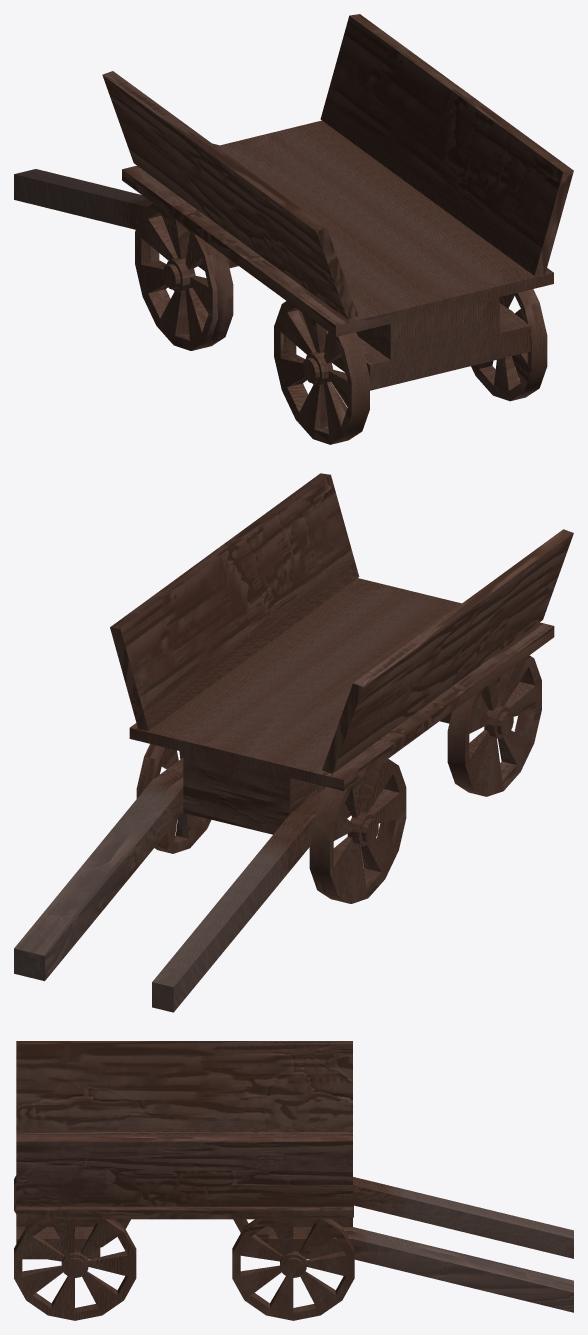
Rendered from cart.fbx.
3 renders of one model, top to bottom at view 1: azimuth 30°, elevation 25°; view 2: azimuth 150°, elevation 25°; view 3: azimuth 270°, elevation 25°, orthographic. The views are drawn at different scales.
Parts seen in each view (by area): view 1: cart:cart, cart:Cube_2_, cart:Cube_1_, cart:Cylinder_3_, cart:Cylinder_4_, cart:Cylinder_6_; view 2: cart:cart, cart:Cube_2_, cart:Cube_1_, cart:Cylinder_3_, cart:Cylinder_4_, cart:Cylinder_7_; view 3: cart:Cube_1_, cart:Cube_2_, cart:cart, cart:Cylinder_7_, cart:Cylinder_6_.
Boxes of the visible parts, x1,y1,x2,y2 form: cart:cart: [14, 120, 553, 390]; cart:Cube_2_: [320, 14, 573, 275]; cart:Cube_1_: [102, 71, 358, 319]; cart:Cylinder_3_: [135, 203, 233, 350]; cart:Cylinder_4_: [274, 301, 369, 444]; cart:Cylinder_6_: [471, 289, 547, 401]; cart:cart: [14, 578, 554, 1012]; cart:Cube_2_: [110, 473, 359, 730]; cart:Cube_1_: [322, 529, 573, 773]; cart:Cylinder_3_: [309, 759, 406, 903]; cart:Cylinder_4_: [447, 655, 541, 796]; cart:Cylinder_7_: [136, 744, 211, 853]; cart:Cube_1_: [16, 1041, 352, 1131]; cart:Cube_2_: [16, 1136, 352, 1206]; cart:cart: [16, 1132, 573, 1312]; cart:Cylinder_7_: [232, 1219, 354, 1320]; cart:Cylinder_6_: [14, 1219, 136, 1320].
Size of the model in its own units: 1.19 by 1.11 by 2.84.
1 material, 1 textured.
